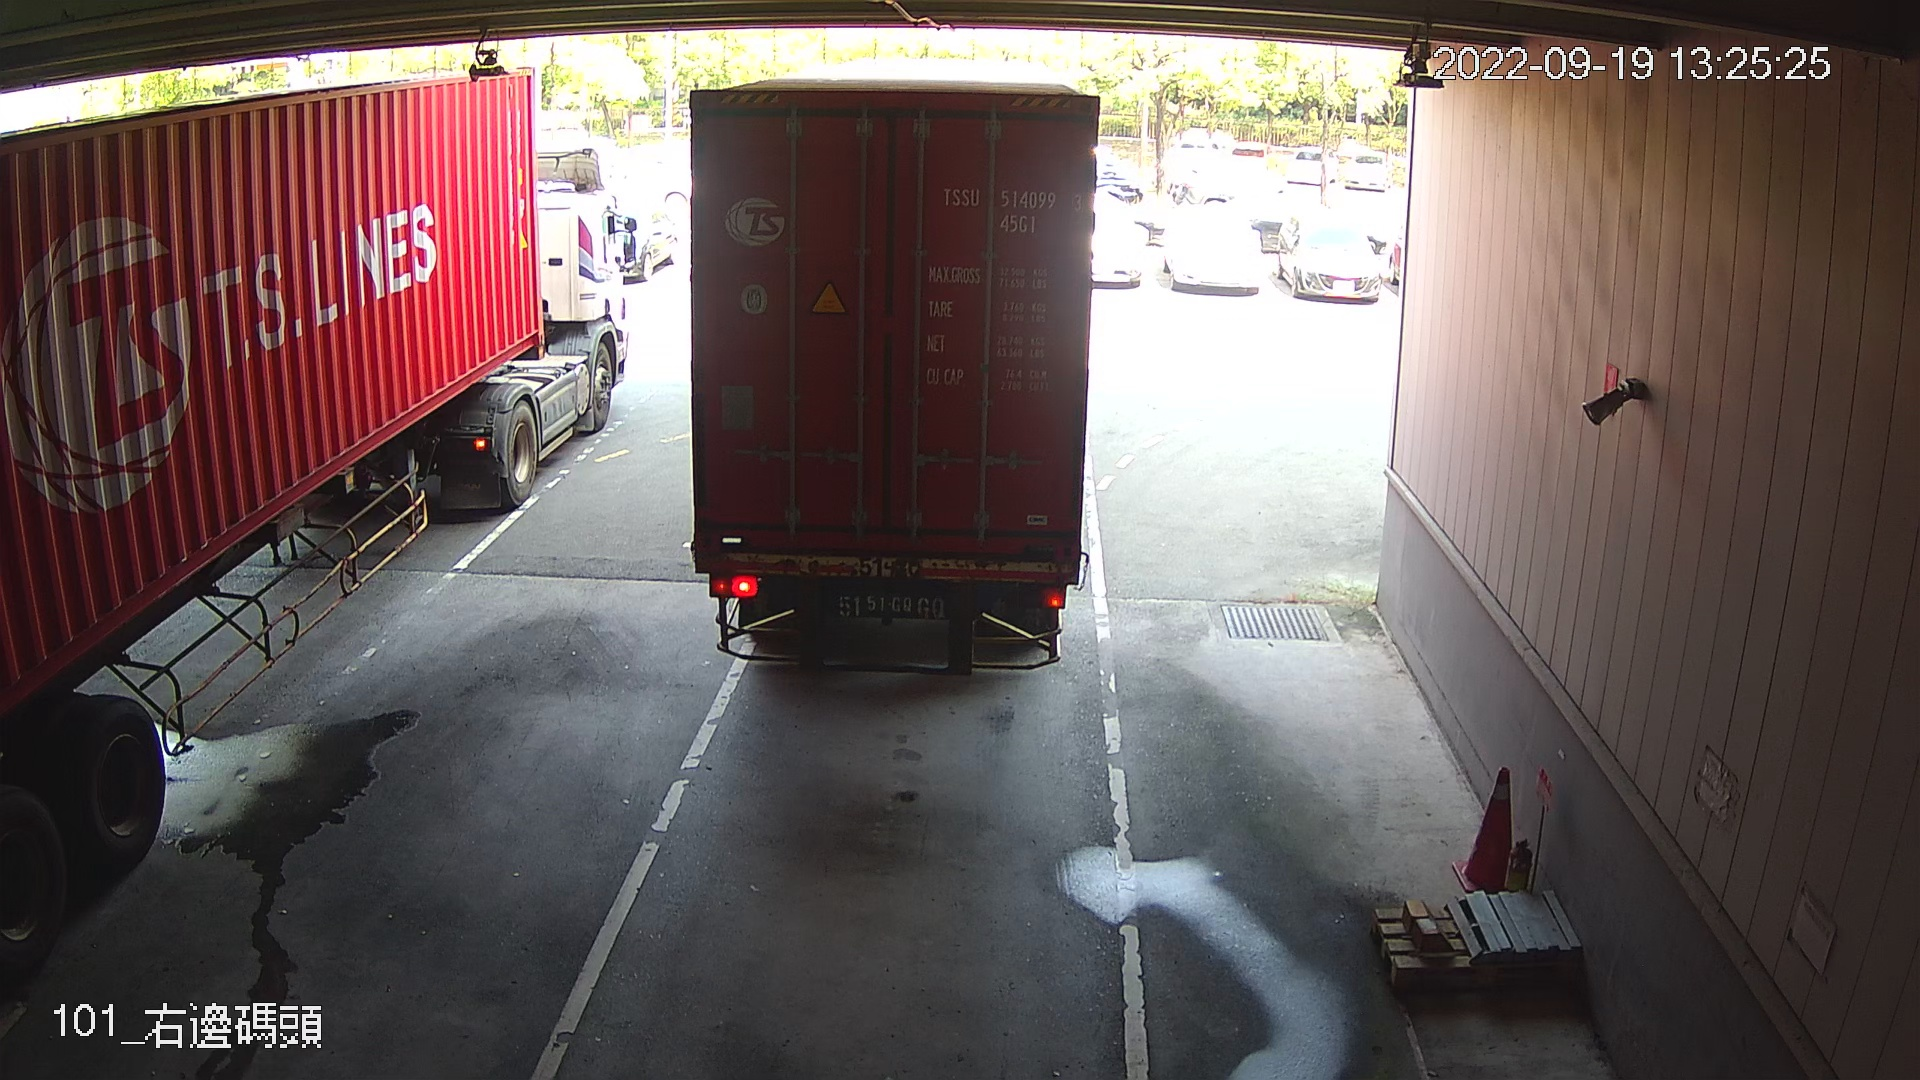container: (934, 175, 1087, 239)
